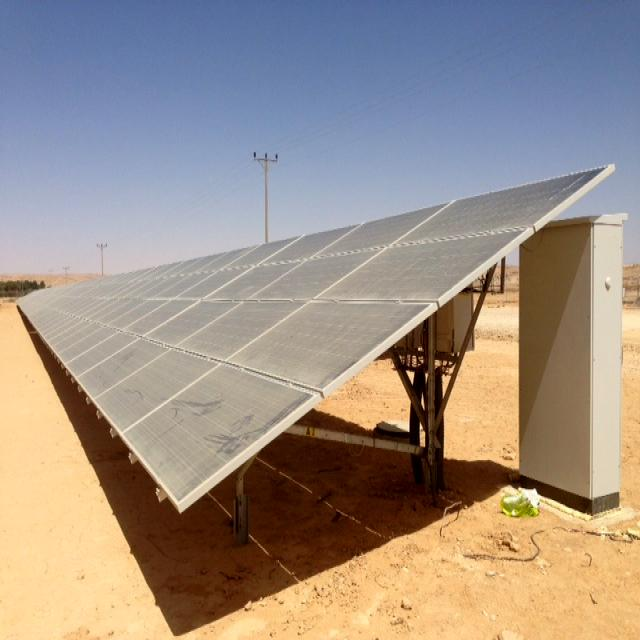dust: (162, 362, 232, 477), (278, 269, 352, 362), (166, 272, 240, 346), (94, 298, 139, 392), (448, 200, 538, 227), (383, 250, 443, 280)
